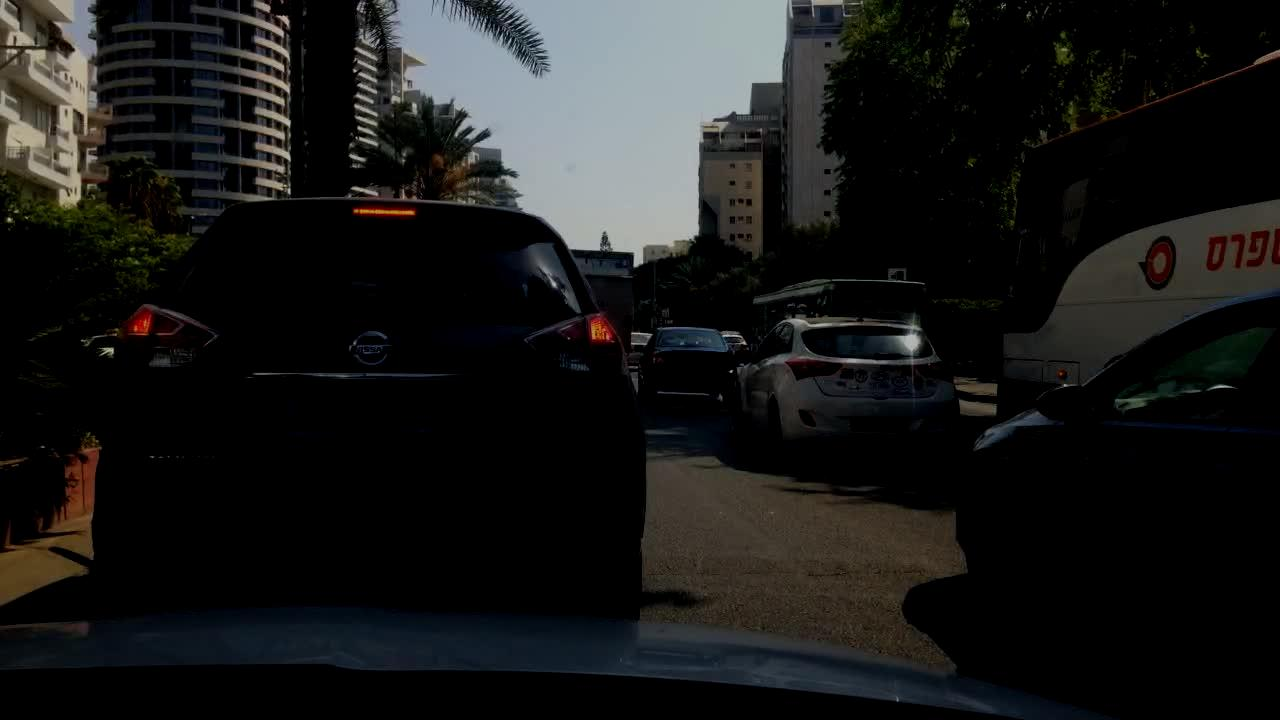Nissan: (342, 322, 397, 371)
